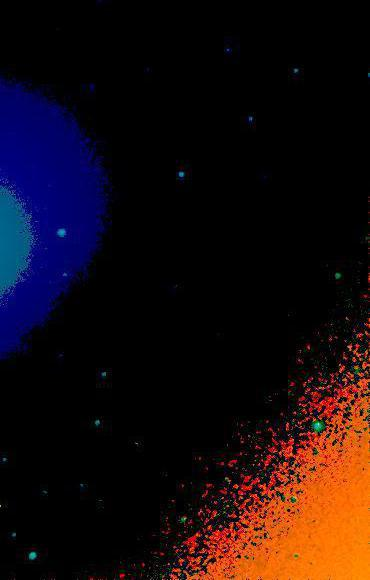star: (338, 333, 368, 363)
